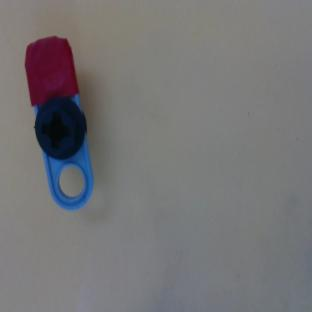part_1_good: (17, 33, 102, 214)
